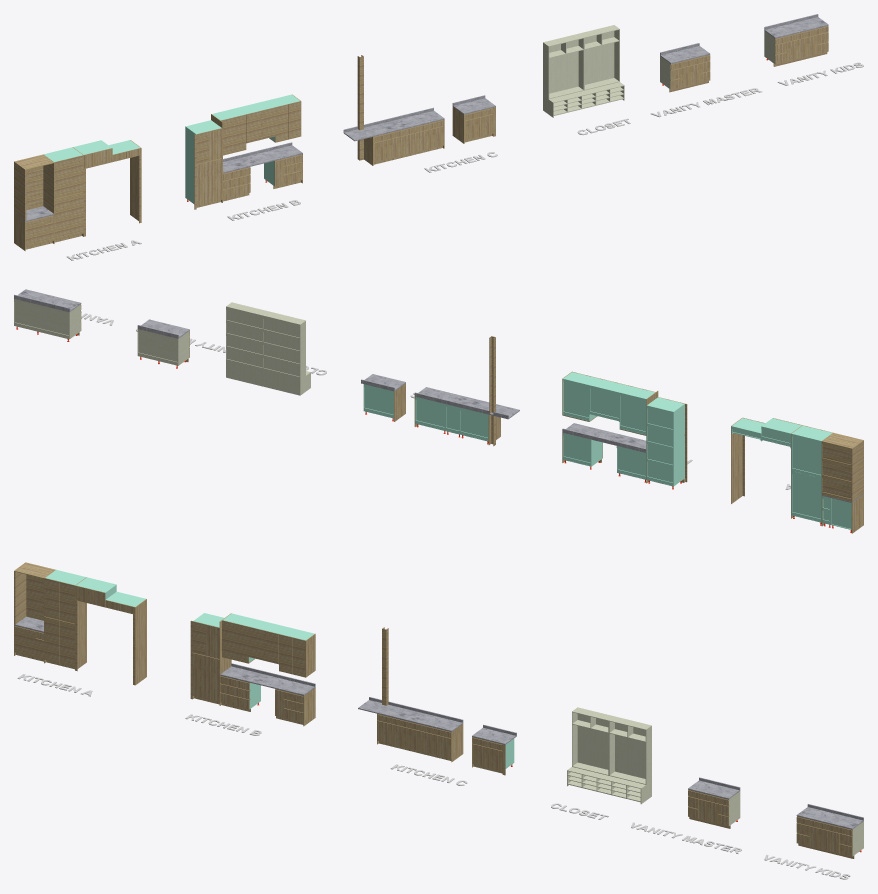
The model's file is daikitchen.glb.
The picture shows the model from 3 angles, top to bottom: view 1: azimuth 30°, elevation 25°; view 2: azimuth 150°, elevation 25°; view 3: azimuth 330°, elevation 25°; orthographic projection. The views are drawn at different scales.
Visible parts, largest first — view 1: _(Loose Entity), G-__368. DAR26_Hậu_CLOS.T2, G-__397. DAR26_Hậu_CLOS.T2, G-Object.004, G-__432. Đá, G-__406. DAR26_Hậu_KITA.T1, G-__17. DAR26_Hông trái_KITB.T1, G-__529. Đá, G-DAR26_Hông phải hoàn thiện_KITA.T7, G-__78. DAR26_Cánh trái_KITA.T4, G-__79. DAR26_Cánh phải_KITA.T4, G-__404. DAR26_Hông trái 02/2_KITA.T1 (+7 smaller); view 2: G-__18. DAR26_Hậu_KITB.T1, G-__397. DAR26_Hậu_CLOS.T2, G-__368. DAR26_Hậu_CLOS.T2, G-__406. DAR26_Hậu_KITA.T1, G-__383. DAR26_Hậu_CLOS.T1, G-__591. DAR26_Hậu_VAKID.T1, G-__85. DAR26_Hậu_KITA.T4, G-__109. DAR26_Hậu_KITA.T5, G-__17. DAR26_Hông trái_KITB.T1, G-__479. DAR26_Hậu_VAMAS.T1, G-Object.004, G-DAR26_Hông phải hoàn thiện_KITA.T7 (+12 smaller); view 3: _(Loose Entity), G-__368. DAR26_Hậu_CLOS.T2, G-__397. DAR26_Hậu_CLOS.T2, G-Object.004, G-__432. Đá, G-DAR26_Hông phải hoàn thiện_KITA.T7, G-__406. DAR26_Hậu_KITA.T1, G-DAR26_Hông phải hoàn thiện_KITA.T4T5, G-__529. Đá, G-__78. DAR26_Cánh trái_KITA.T4, G-__79. DAR26_Cánh phải_KITA.T4, G-__407. DAR26_Hông trái 01/2_KITA.T1 (+3 smaller).
Part boxes in pixels (box(x1,y1,x2,y2)): _(Loose Entity): box(66, 62, 863, 260); G-__368. DAR26_Hậu_CLOS.T2: box(549, 39, 578, 93); G-__397. DAR26_Hậu_CLOS.T2: box(585, 31, 614, 84); G-Object.004: box(223, 145, 302, 173); G-__432. Đá: box(364, 110, 444, 136); G-__406. DAR26_Hậu_KITA.T1: box(17, 155, 43, 210); G-__17. DAR26_Hông trái_KITB.T1: box(185, 126, 196, 203); G-__529. Đá: box(764, 17, 828, 38); G-DAR26_Hông phải hoàn thiện_KITA.T7: box(130, 140, 141, 222); G-__78. DAR26_Cánh trái_KITA.T4: box(54, 195, 68, 240); G-__79. DAR26_Cánh phải_KITA.T4: box(69, 192, 83, 236); G-__404. DAR26_Hông trái 02/2_KITA.T1: box(14, 161, 25, 220); G-__18. DAR26_Hậu_KITB.T1: box(647, 405, 673, 482); G-__397. DAR26_Hậu_CLOS.T2: box(227, 310, 262, 367); G-__368. DAR26_Hậu_CLOS.T2: box(264, 319, 299, 376); G-__406. DAR26_Hậu_KITA.T1: box(822, 441, 851, 498); G-__383. DAR26_Hậu_CLOS.T1: box(226, 362, 299, 395); G-__591. DAR26_Hậu_VAKID.T1: box(15, 302, 68, 335); G-__85. DAR26_Hậu_KITA.T4: box(792, 474, 820, 518); G-__109. DAR26_Hậu_KITA.T5: box(792, 433, 820, 474); G-__17. DAR26_Hông trái_KITB.T1: box(673, 403, 684, 486); G-__479. DAR26_Hậu_VAMAS.T1: box(138, 332, 177, 361); G-Object.004: box(562, 423, 646, 452); G-DAR26_Hông phải hoàn thiện_KITA.T7: box(731, 417, 742, 503); _(Loose Entity): box(17, 674, 850, 879); G-__368. DAR26_Hậu_CLOS.T2: box(577, 713, 608, 769); G-__397. DAR26_Hậu_CLOS.T2: box(615, 722, 645, 778); G-Object.004: box(220, 666, 315, 695); G-__432. Đá: box(377, 704, 463, 731); G-DAR26_Hông phải hoàn thiện_KITA.T7: box(135, 599, 146, 685); G-__406. DAR26_Hậu_KITA.T1: box(26, 563, 54, 620); G-DAR26_Hông phải hoàn thiện_KITA.T4T5: box(75, 600, 86, 670); G-__529. Đá: box(796, 807, 863, 829); G-__78. DAR26_Cánh trái_KITA.T4: box(44, 616, 59, 663); G-__79. DAR26_Cánh phải_KITA.T4: box(60, 620, 74, 666); G-__407. DAR26_Hông trái 01/2_KITA.T1: box(14, 563, 26, 624).
Bounding box in the file's own units: 25.88 × 3.12 × 1.81.
8 materials, 4 textured.
